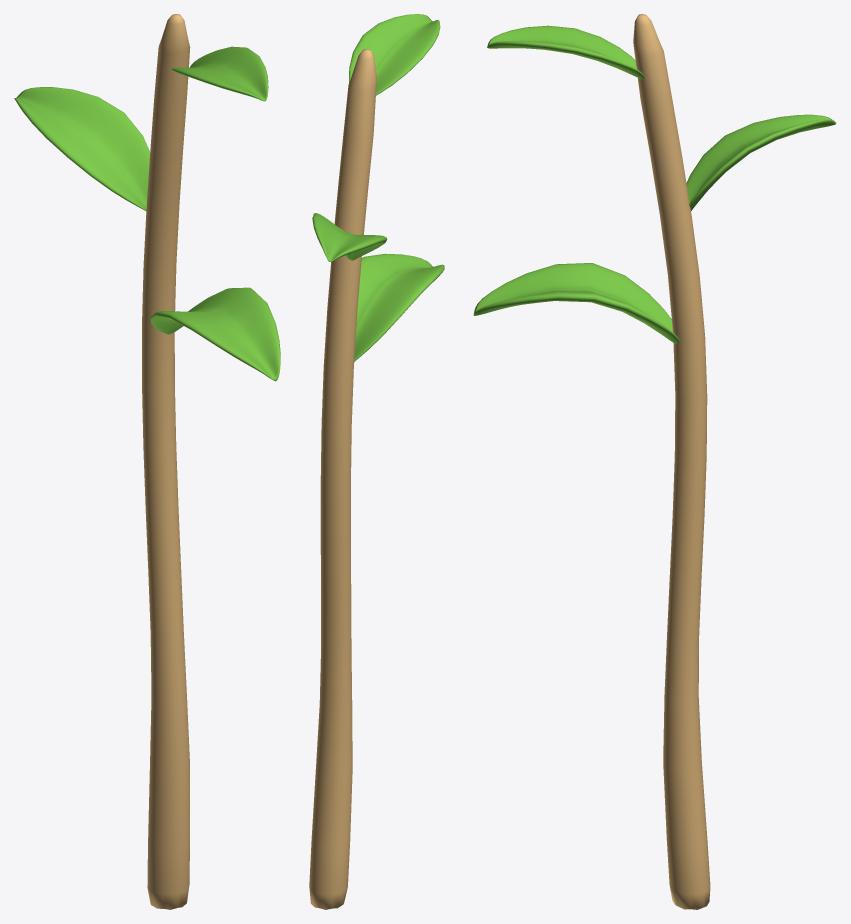
The model's file is CoffeeStage2.fbx.
3 renders of one model, left to right at view 1: azimuth 30°, elevation 25°; view 2: azimuth 150°, elevation 25°; view 3: azimuth 270°, elevation 25°, orthographic. The views are drawn at different scales.
Visible parts, largest first — view 1: Plane.039; view 2: Plane.039; view 3: Plane.039.
Part boxes in pixels (x1,y1,x2,y2): Plane.039: (14,14,280,909); Plane.039: (309,14,444,909); Plane.039: (473,14,836,909).
Bounding box in the file's own units: 11.9 × 84.16 × 31.26.
